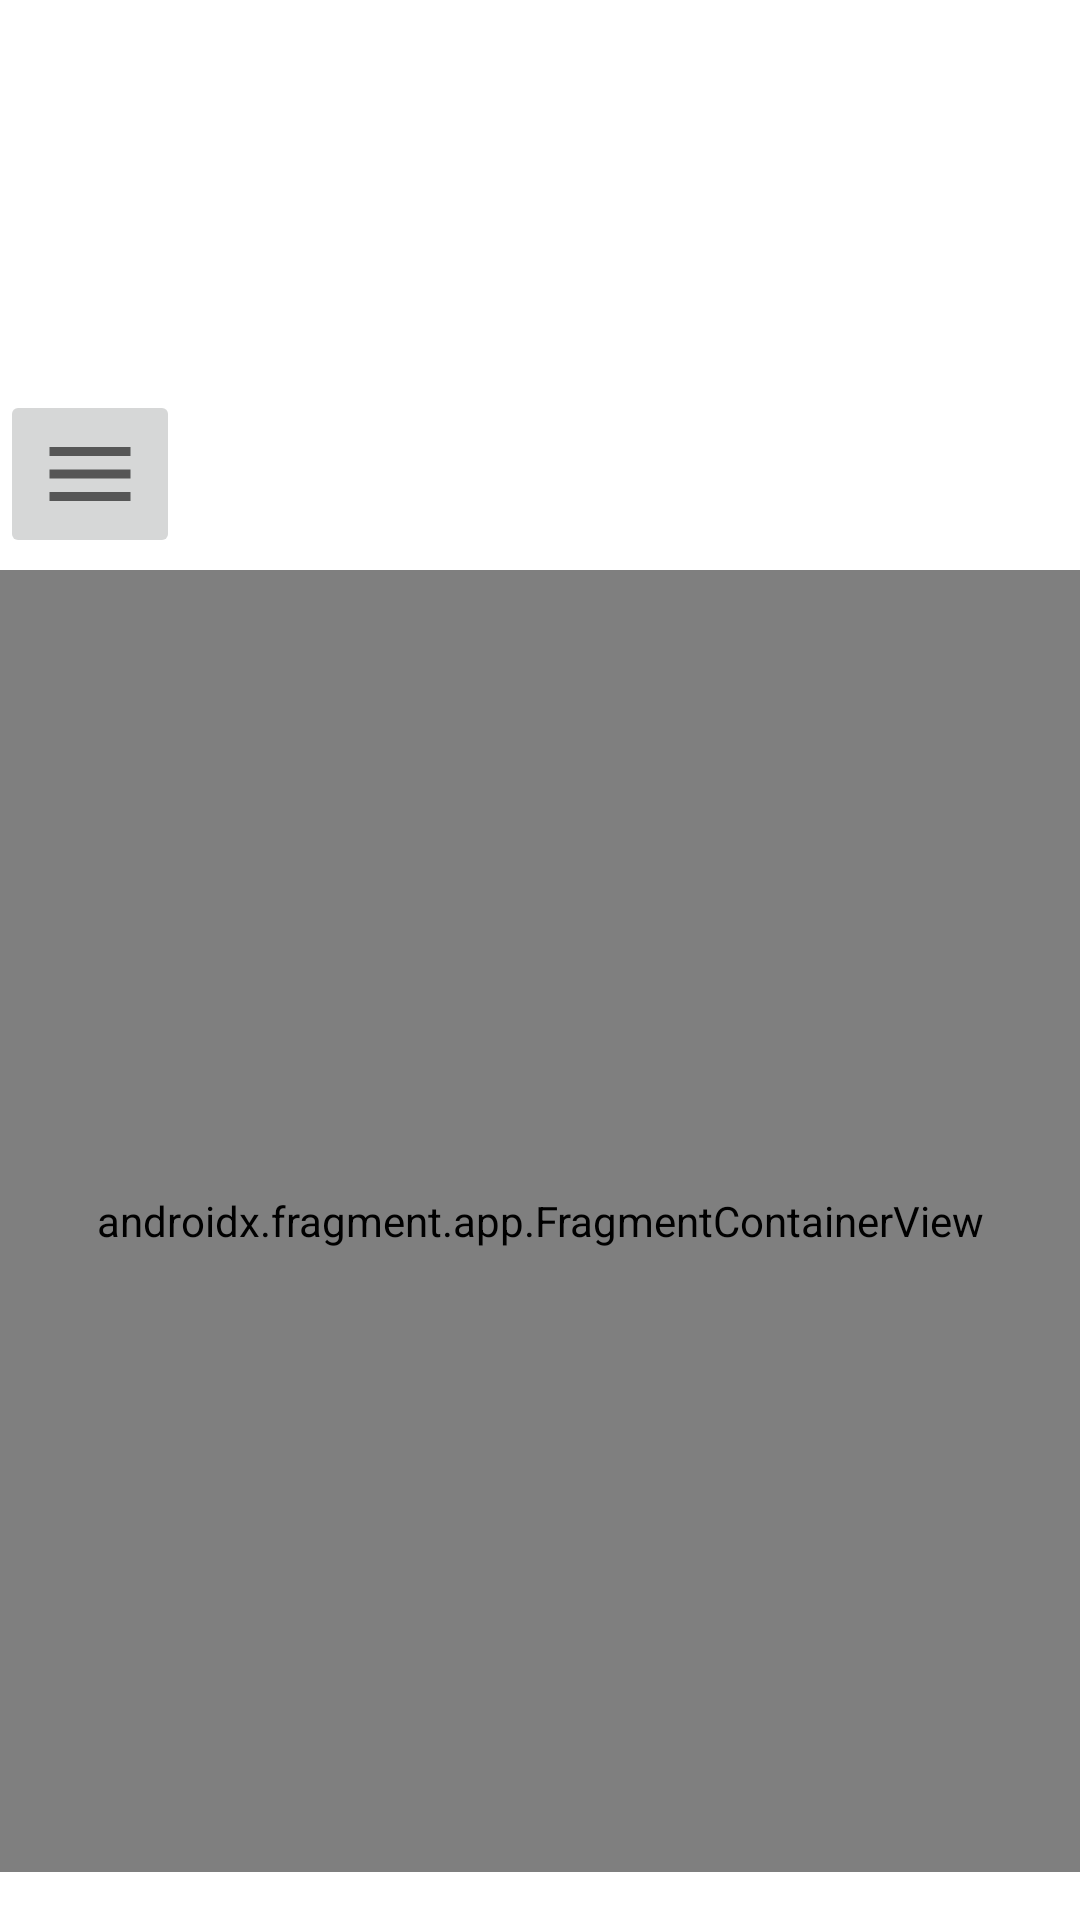

Icons on this 1080x1920 Android screen, each with its box as (x1=x1, y1=y1, x2=x2, y2=y2):
menu: (x1=12, y1=408, x2=168, y2=540)
